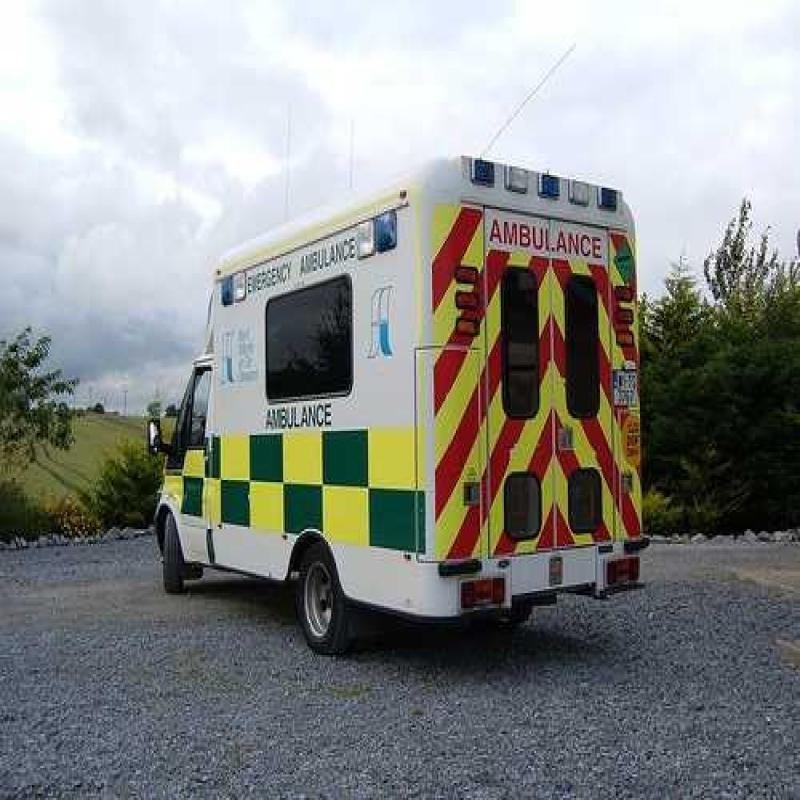AmbulanceSiren: (454, 141, 617, 235)
